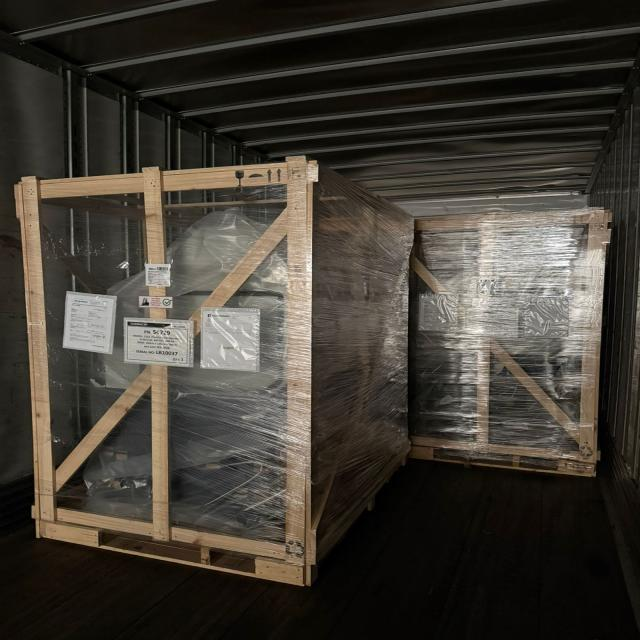15lx: (16, 156, 412, 585), (410, 208, 609, 476)
